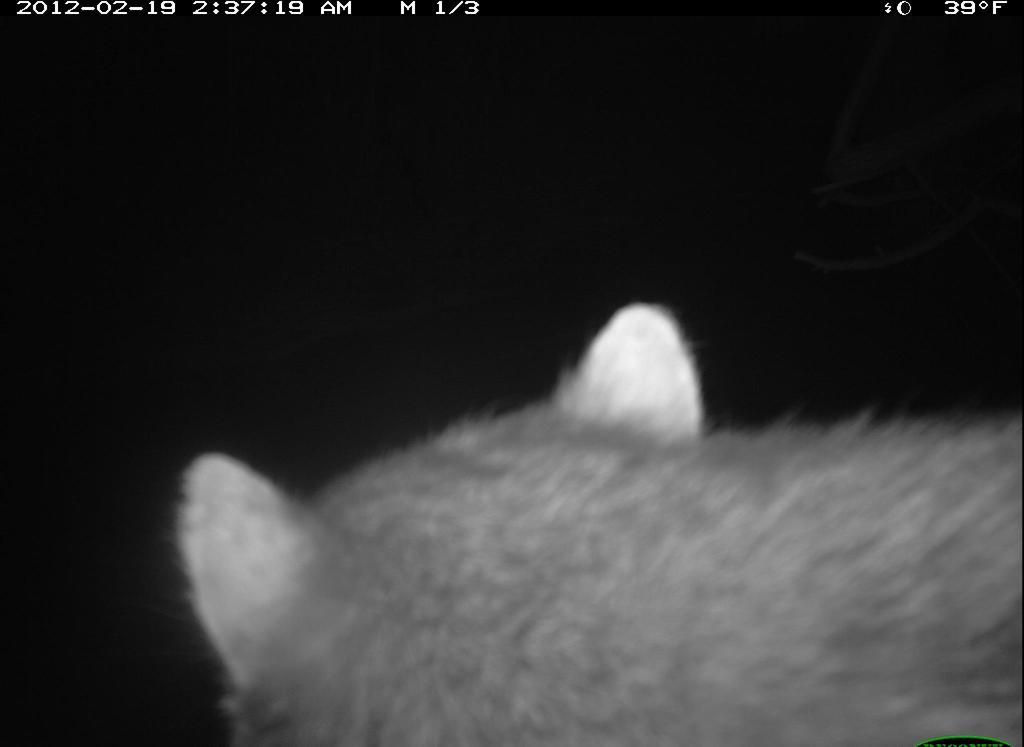raccoon: (163, 295, 1023, 747)
